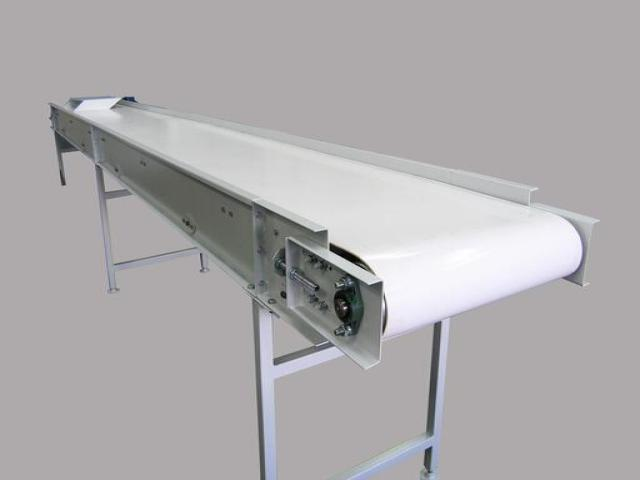conveyor: (44, 92, 600, 371)
